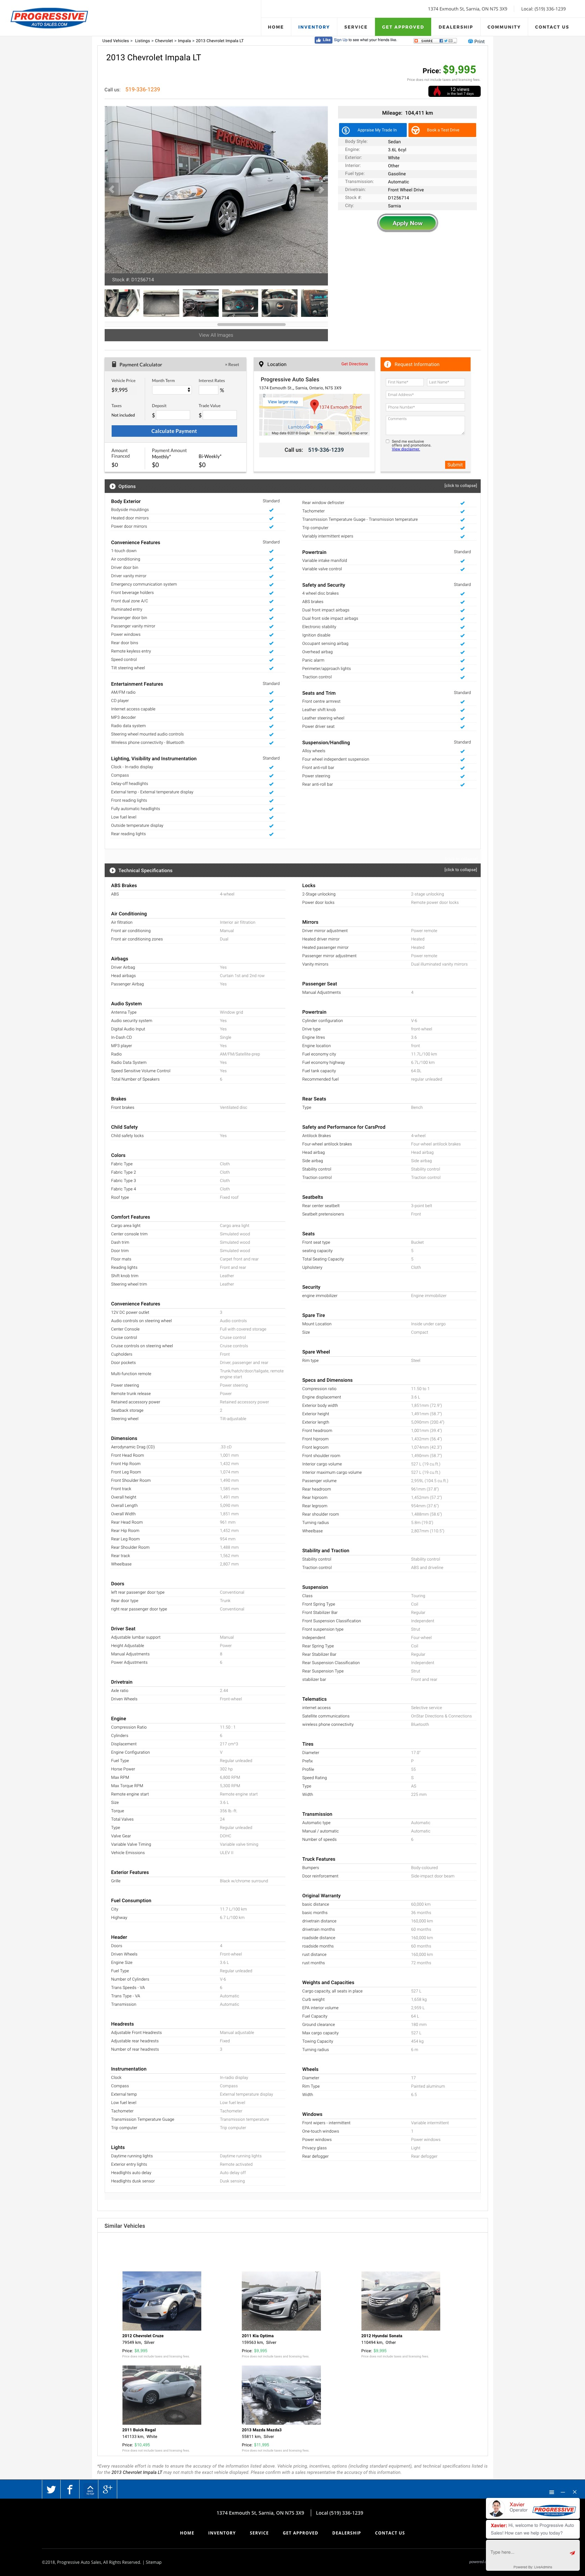car: (319, 186, 325, 194)
